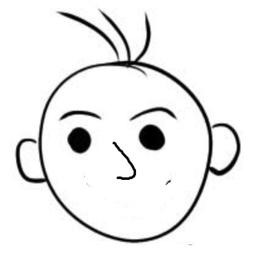ear: (210, 120, 244, 177), (13, 134, 48, 187)
eye: (59, 125, 93, 158), (136, 121, 168, 154)
eyebrow: (128, 104, 180, 122), (55, 108, 105, 124)
nose: (108, 140, 136, 185)
